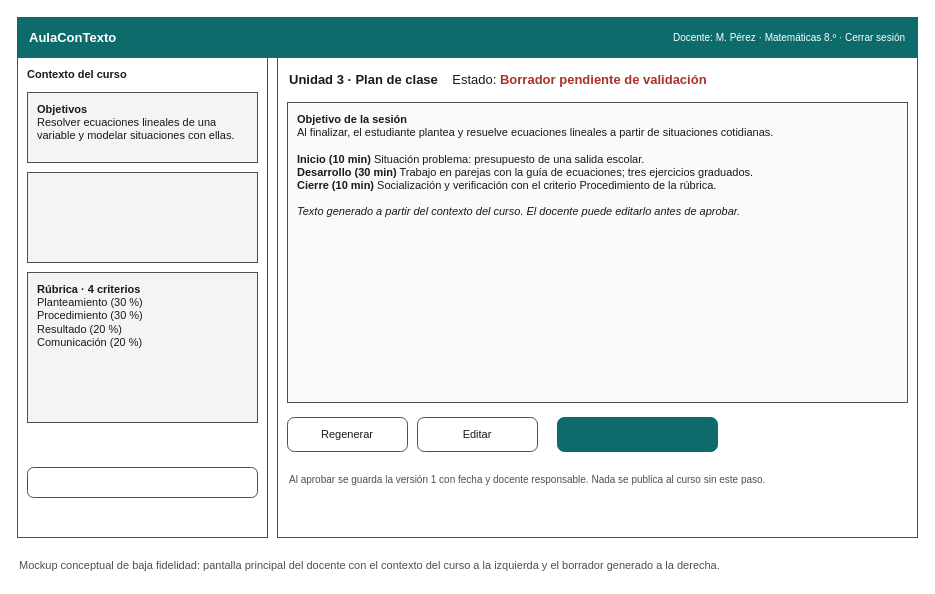
The diagram is 935 pixels wide and 594 high, and some of its shapes have lost their labels. The shapes that lost their labels are listed below. From the top down, each one's centre as x and y in pixels, then its label:
At point 142,217: "Materiales (texto) Guía de ecuaciones · Plan de área · Ejemplos resueltos".
At point 637,434: "Aprobar y publicar".
At point 142,482: "Editar contexto".
